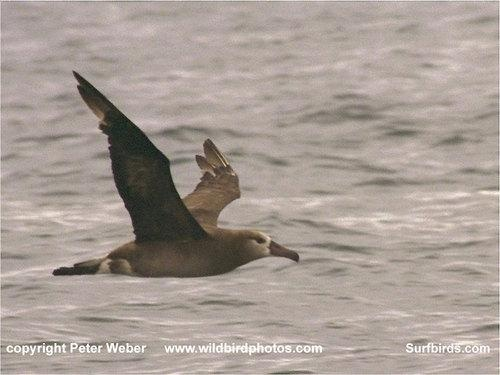bird: (43, 68, 303, 274)
